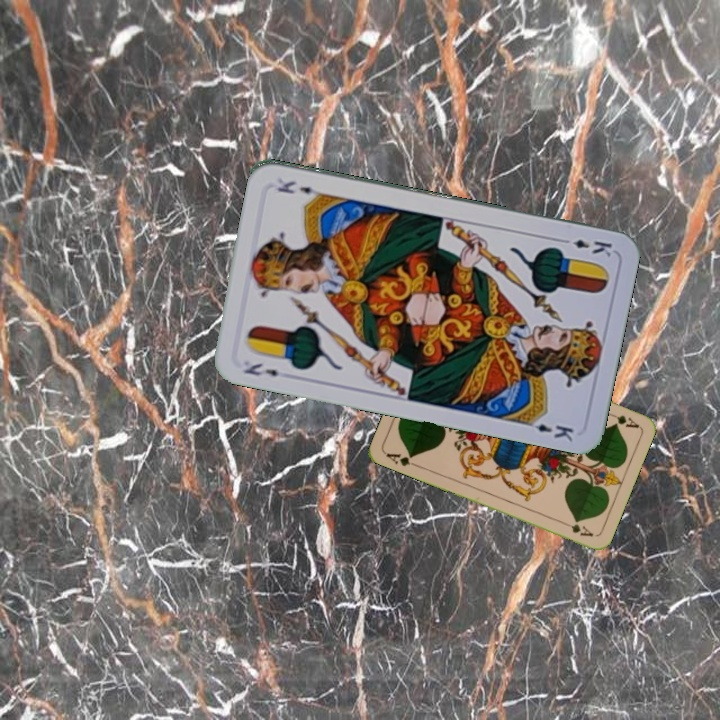EK: (556, 234, 615, 259), (240, 359, 281, 379)
GA: (602, 408, 641, 430), (382, 449, 421, 470)
